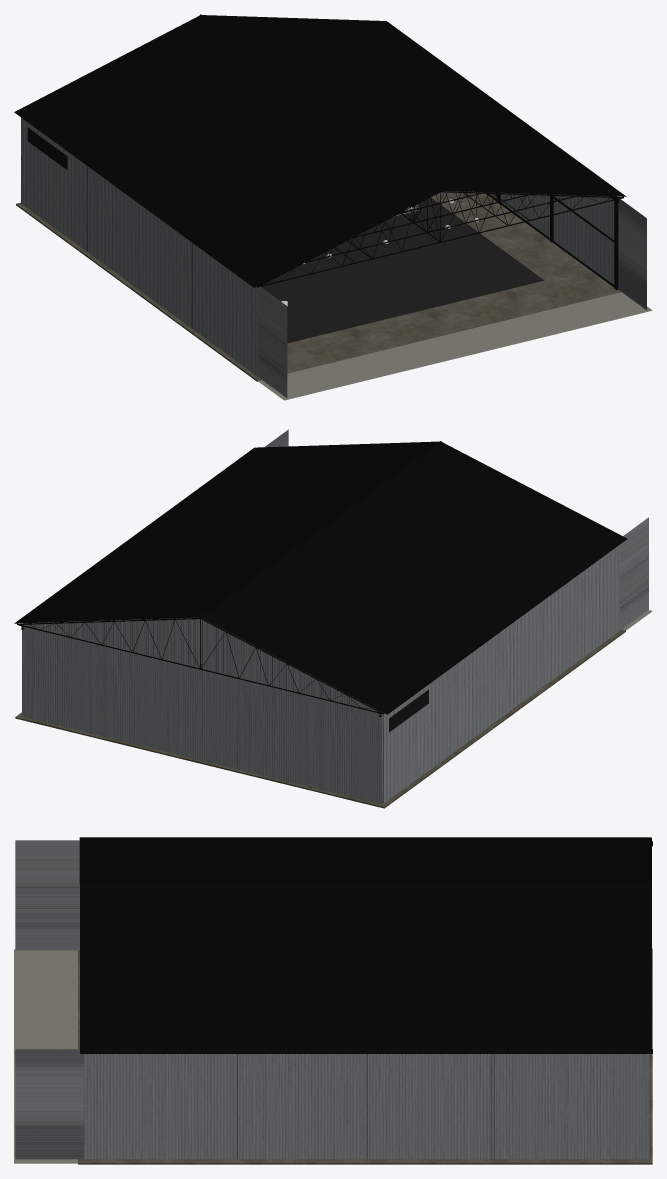
The model's file is studio-garage.glb.
3 renders of one model, top to bottom at view 1: azimuth 30°, elevation 25°; view 2: azimuth 150°, elevation 25°; view 3: azimuth 270°, elevation 25°, orthographic. The views are drawn at different scales.
Visible parts, largest first — view 1: iron from the roof.001, Plane.001, Cube.003, Plane, Plane.018, iron from the roof, Cube.005, iron from the roof.002, Cube; view 2: iron from the roof.001, Plane.001, Plane.002, Plane, iron from the roof, iron from the roof.002, Cube; view 3: iron from the roof.001, Plane.001, Plane.018, Plane, iron from the roof.002, Cube.005.
Part boxes in pixels (x1,y1,x2,y2): iron from the roof.001: (14,15,626,287); Plane.001: (21,117,646,397); Cube.003: (261,198,543,343); Plane: (16,190,620,381); Plane.018: (258,292,652,400); iron from the roof: (17,110,623,287); Cube.005: (21,157,619,328); iron from the roof.002: (199,14,441,190); Cube: (27,127,67,170); iron from the roof.001: (14,441,627,714); Plane.001: (22,429,648,804); Plane.002: (23,618,381,711); Plane: (15,617,625,808); iron from the roof: (17,557,596,714); iron from the roof.002: (200,441,441,617); Cube: (389,689,428,732); iron from the roof.001: (79,837,651,1053); Plane.001: (15,840,649,1159); Plane.018: (14,949,77,1163); Plane: (78,948,652,1164); iron from the roof.002: (80,883,651,884); Cube.005: (80,841,652,1158).
Bounding box in the file's own units: 22.17 × 8.31 × 27.64.
21 materials, 4 textured.
